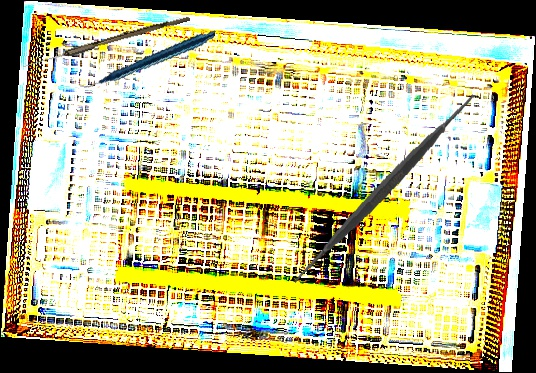Handpiece: (79, 1, 216, 116)
Spatula Surgical: (277, 81, 491, 296)
Surgical Spoon: (21, 12, 191, 72)
